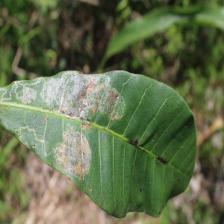leaf miner: (0, 69, 197, 218)
